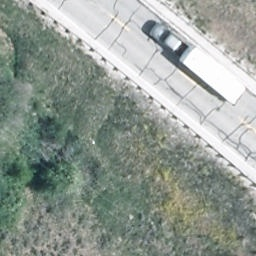camping car: (178, 44, 247, 108)
car: (147, 24, 185, 51)
